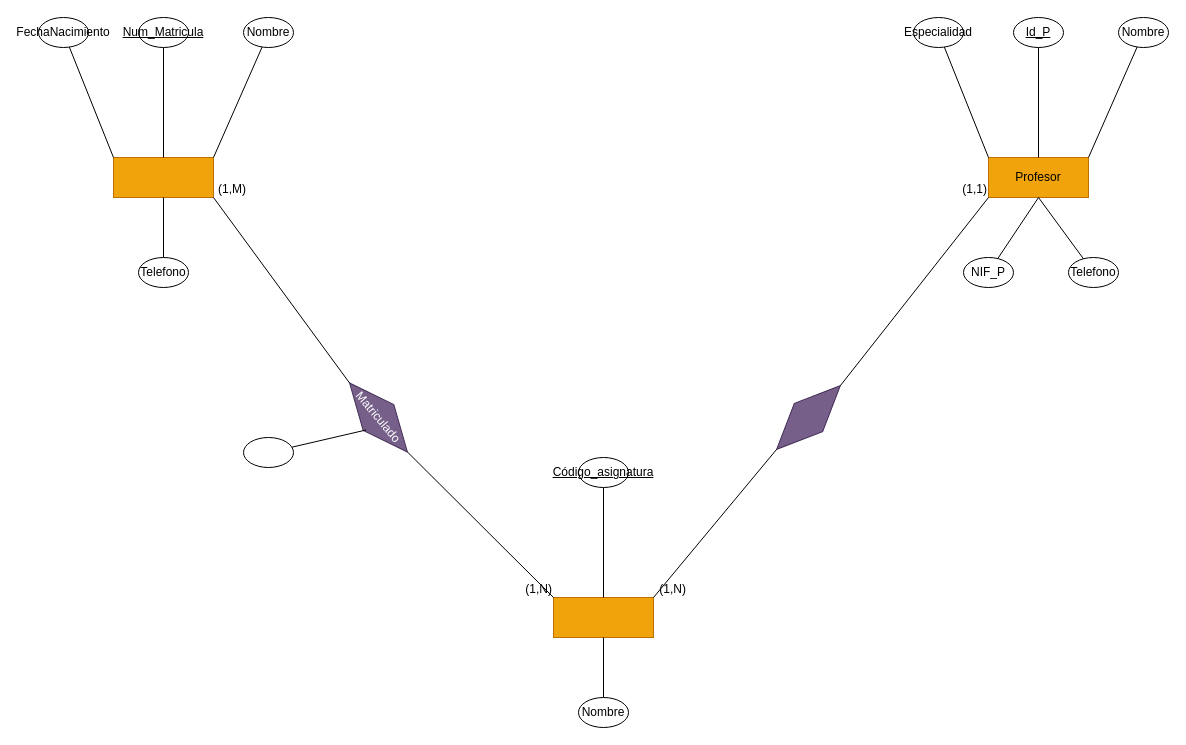
This 1186x745 diagram has some shape labels left out. The centre of each missing label's shape, as x and y in pixels:
"Alumno" goes at point 163,177.
"Asignatura" goes at point 603,617.
"Curso_Escolar" goes at point 268,452.
"Imparte" goes at point 808,417.
